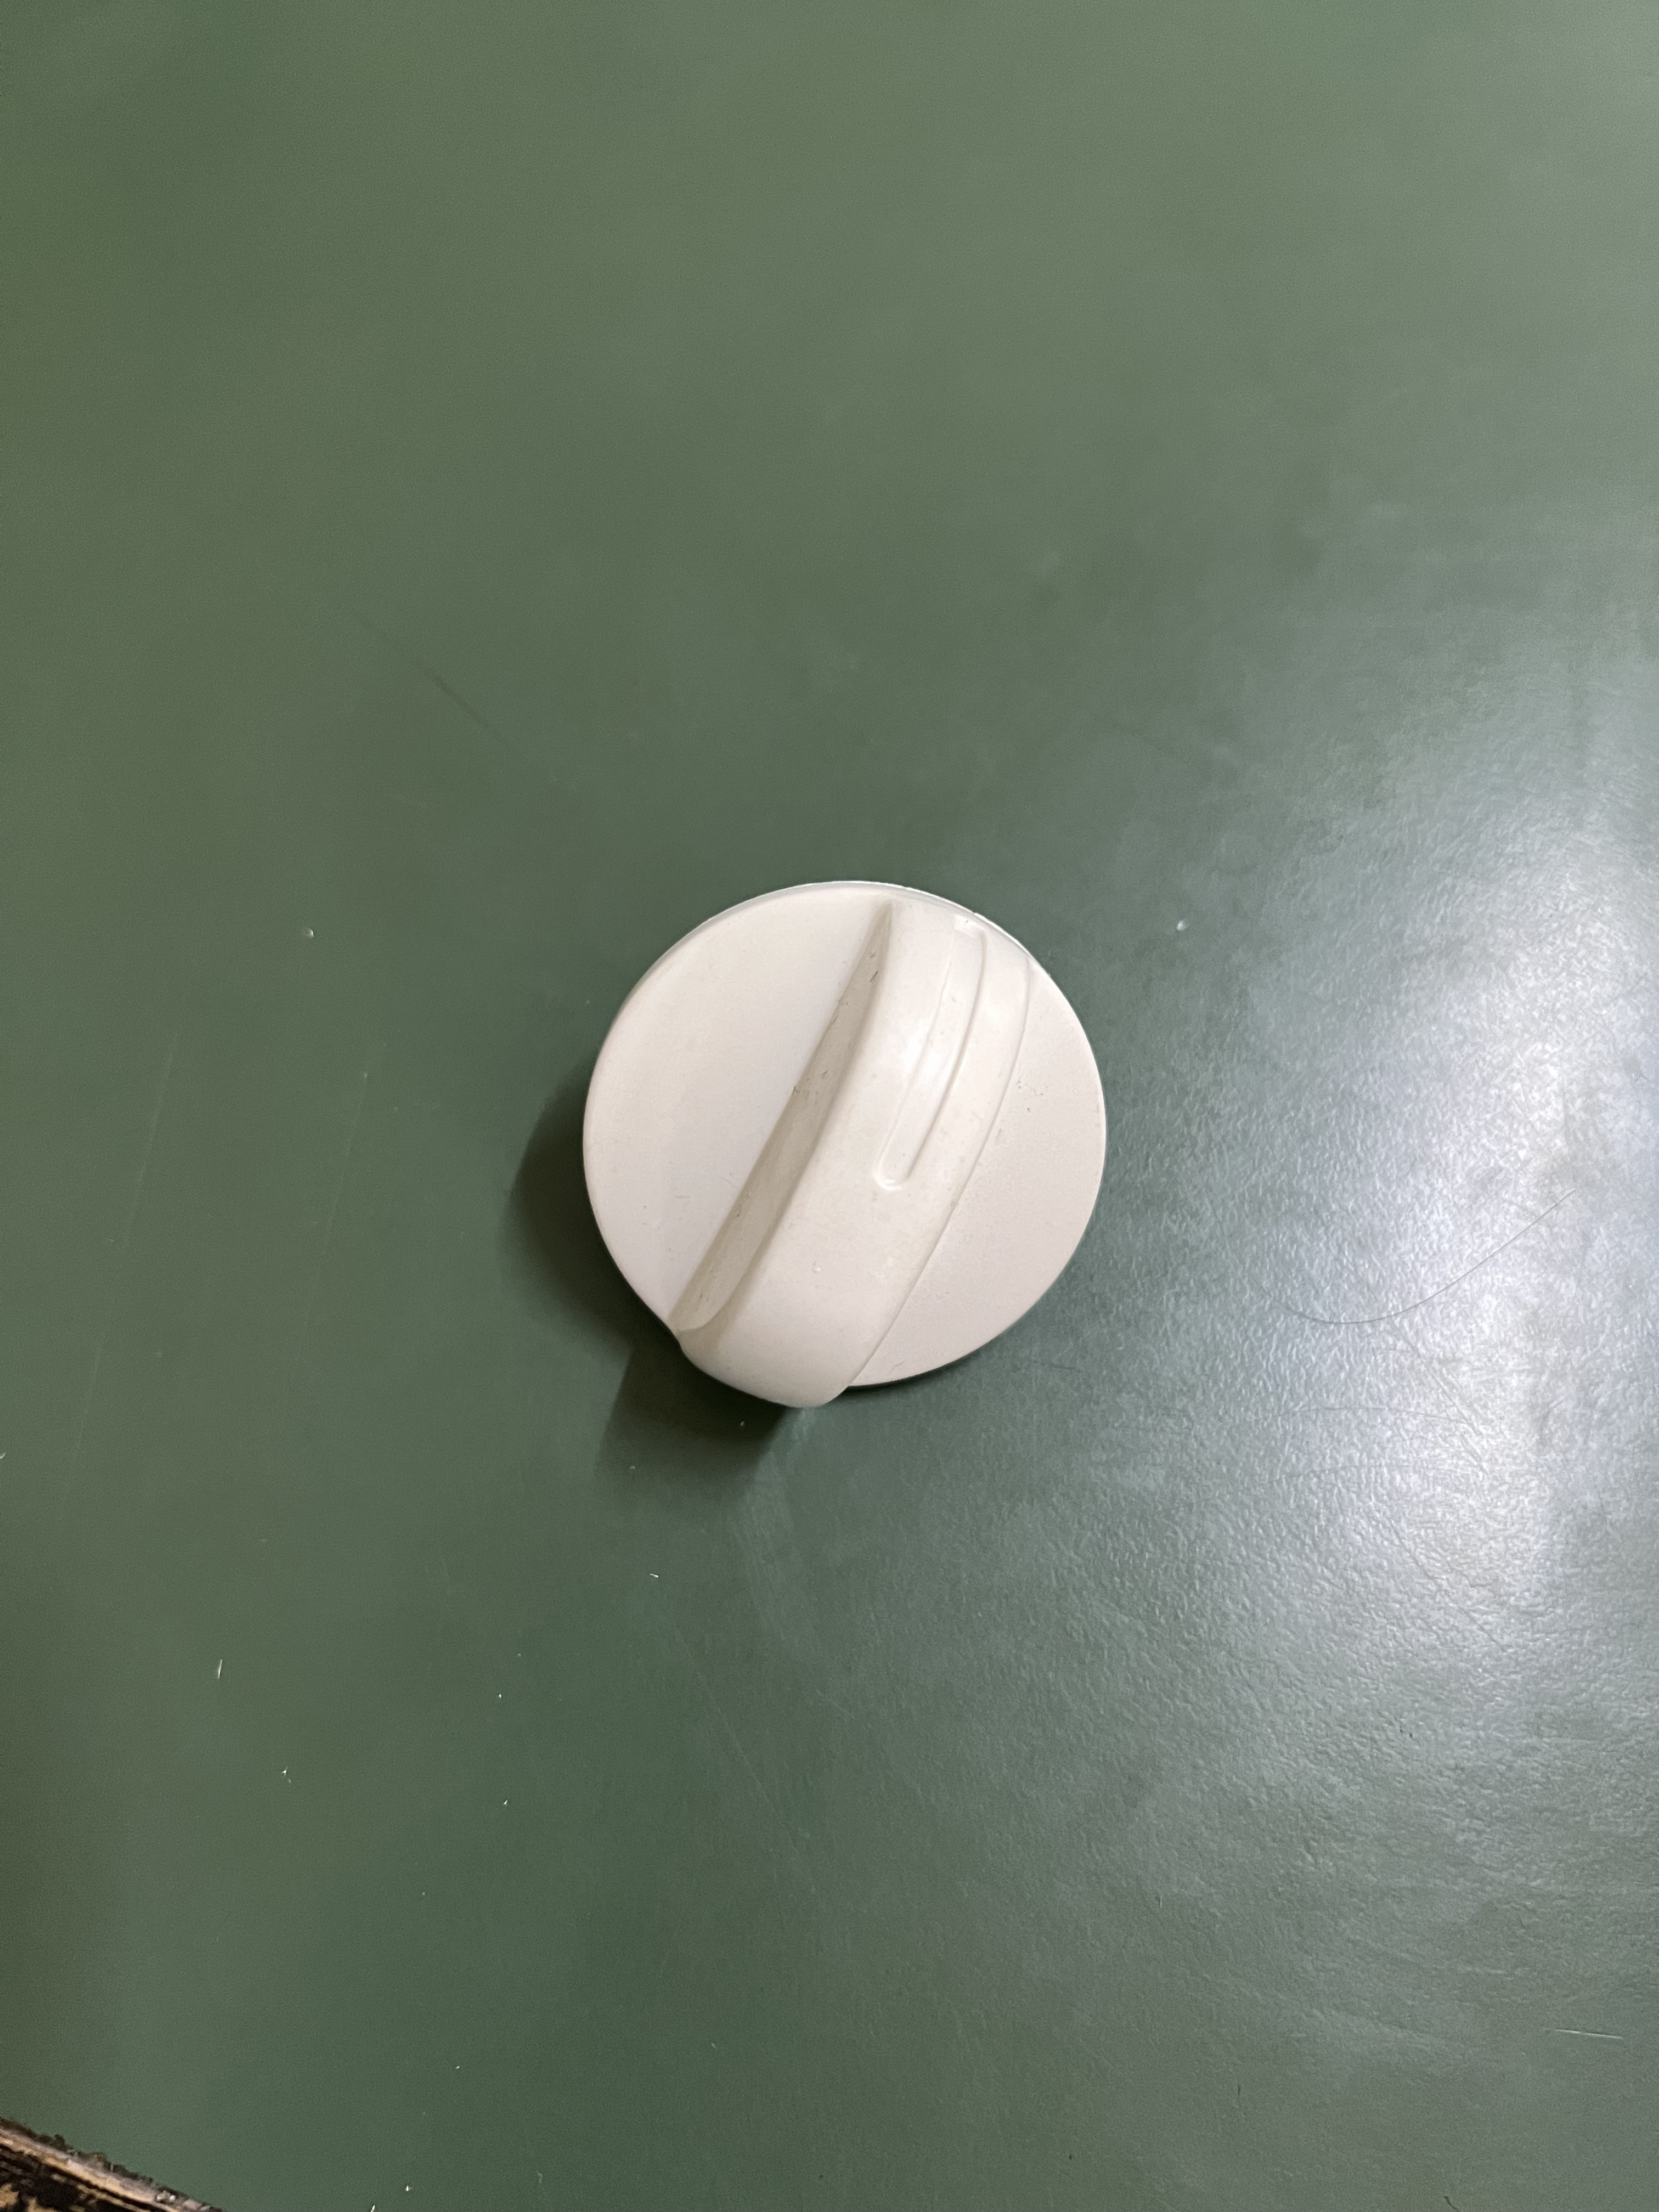regulator: (525, 866, 1117, 1406)
